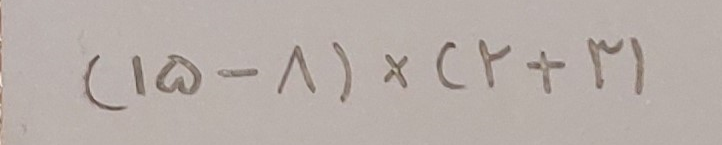character: (84, 54, 127, 111), (589, 37, 625, 89), (277, 45, 315, 93), (155, 54, 200, 94), (479, 39, 511, 87), (526, 50, 563, 91), (436, 42, 464, 90), (332, 42, 349, 100), (384, 54, 407, 88), (631, 37, 643, 94), (132, 55, 145, 95), (217, 68, 261, 79)
